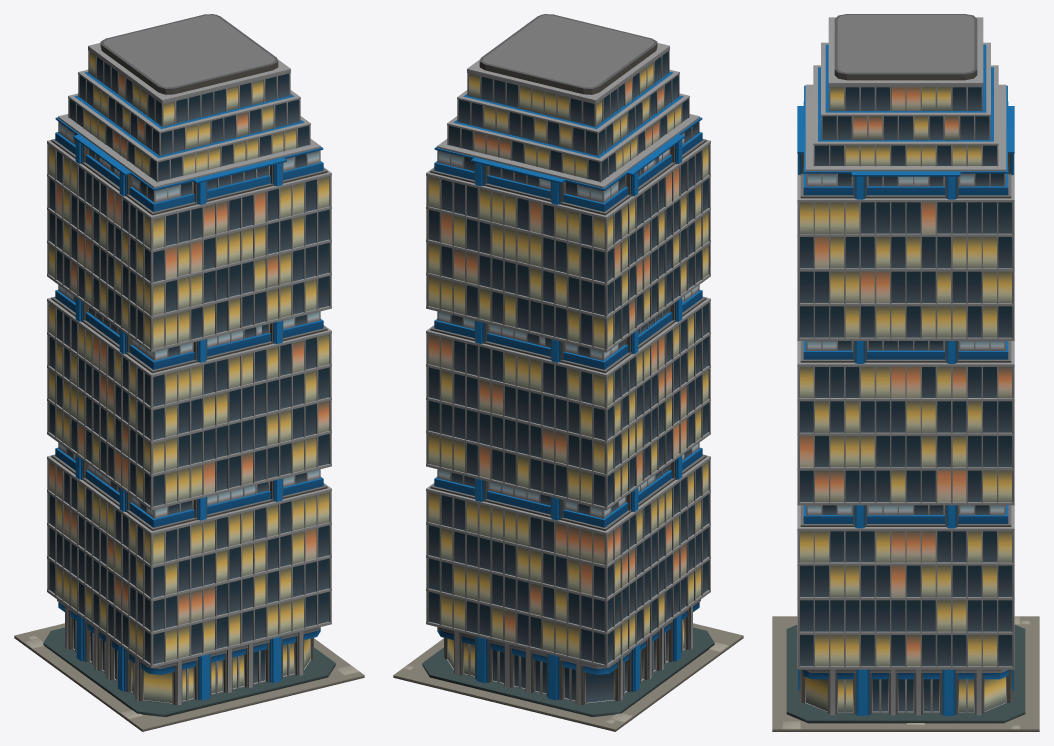
Rendered from Skyscraper_1A.fbx.
3 renders of one model, left to right at view 1: azimuth 30°, elevation 25°; view 2: azimuth 150°, elevation 25°; view 3: azimuth 270°, elevation 25°, orthographic. The views are drawn at different scales.
Parts seen in each view (by area): view 1: Skyscraper_1A, Window_Lights_Skyscraper_1A; view 2: Skyscraper_1A, Window_Lights_Skyscraper_1A; view 3: Skyscraper_1A, Window_Lights_Skyscraper_1A.
Part boxes in pixels (x1=…): Skyscraper_1A: x1=14, y1=14, x2=364, y2=731; Window_Lights_Skyscraper_1A: x1=49, y1=51, x2=329, y2=702; Skyscraper_1A: x1=393, y1=14, x2=743, y2=731; Window_Lights_Skyscraper_1A: x1=428, y1=62, x2=708, y2=675; Skyscraper_1A: x1=772, y1=14, x2=1039, y2=731; Window_Lights_Skyscraper_1A: x1=800, y1=87, x2=1011, y2=711.
Size of the model in its own units: 2800 by 7303 by 2800.
